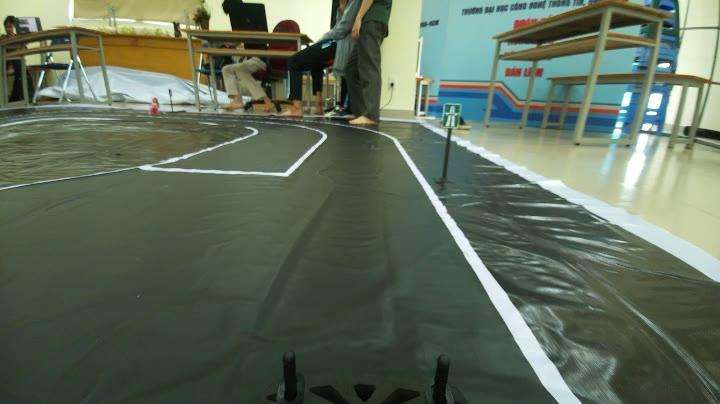highway_entry: (436, 95, 466, 134)
